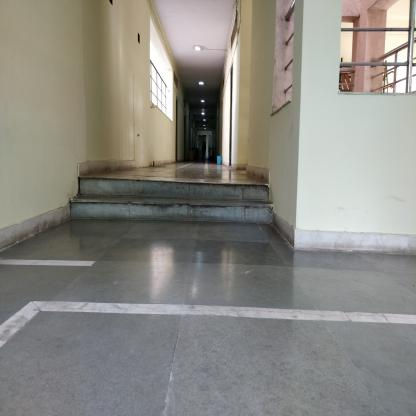stairs: (76, 176, 269, 226)
